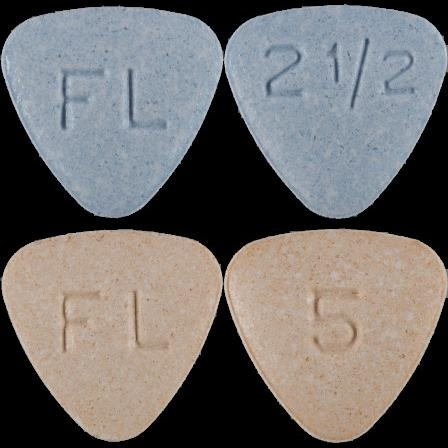0456-1402: (0, 0, 224, 224)
